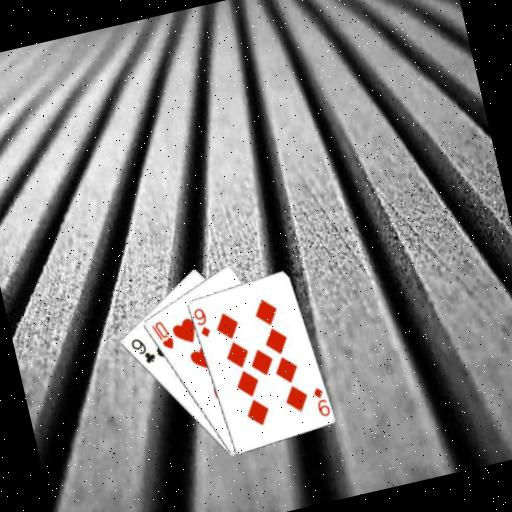10H: (147, 316, 177, 354)
9C: (126, 332, 158, 368)
9D: (190, 304, 213, 341), (309, 383, 332, 420)
